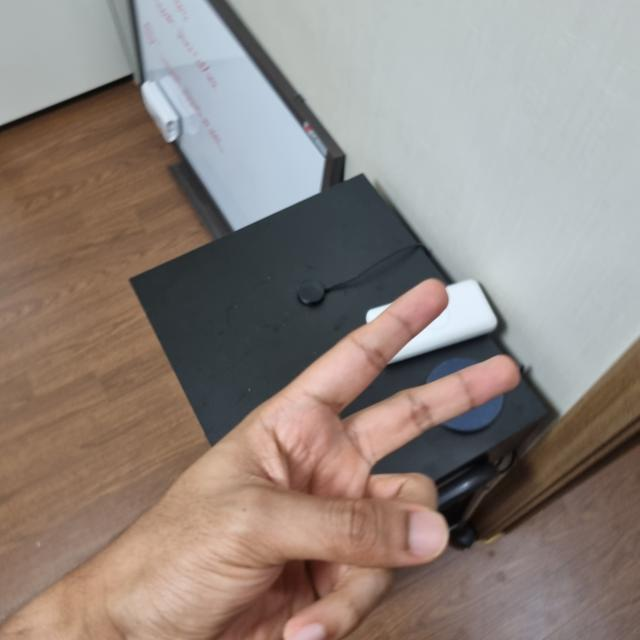Scissors: (101, 281, 520, 638)
